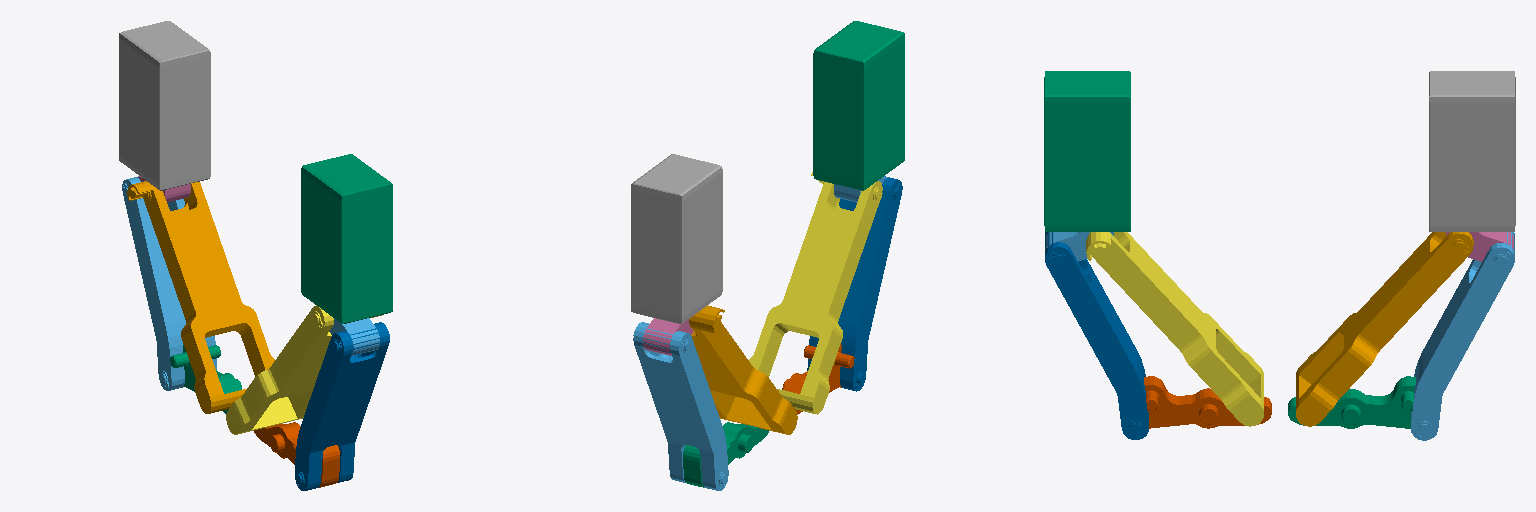
robot.urdf — robotiq_2f140_simple:
<?xml version="1.0"?>
<robot name="robotiq_2f140_simple">
  <joint name="finger_joint" type="revolute">
    <origin xyz="0. -0.030601 0.054905" rpy="0.8457962 0.0000001 -3.1415925"/>
    <parent link="robotiq_arg2f_base_link"/>
    <child link="left_outer_knuckle"/>
    <axis xyz="1. 0. 0."/>
    <limit lower="0." upper="0.7" effort="60000." velocity="2."/>
  </joint>
  <joint name="left_inner_finger_joint" type="revolute">
    <origin xyz="0. 0.0817554 -0.0282203" rpy="-0.725 0. 0. "/>
    <parent link="left_outer_finger"/>
    <child link="left_inner_finger"/>
    <axis xyz="1. 0. 0."/>
    <limit lower="-0.8757" upper="0.8757" effort="60000." velocity="2."/>
  </joint>
  <joint name="left_inner_finger_pad_joint" type="fixed">
    <origin xyz="0. 0.0457554 -0.0272203" rpy="0. -1.5707963 0. "/>
    <parent link="left_inner_finger"/>
    <child link="left_inner_finger_pad"/>
  </joint>
  <joint name="left_inner_knuckle_joint" type="continuous">
    <origin xyz="0. 0.0085067 -0.0170686" rpy="0.7249998 0. 0. "/>
    <parent link="left_inner_finger"/>
    <child link="left_inner_knuckle"/>

    <limit lower="-1.8757" upper="1.8757" effort="60000." velocity="2."/>
    <axis xyz="1. 0. 0."/>
  </joint>
  <joint name="left_outer_finger_joint" type="fixed">
    <origin xyz="0. 0.01822 -0.0260018" rpy="3.1415927 0.0000001 -3.1415927"/>
    <parent link="left_outer_knuckle"/>
    <child link="left_outer_finger"/>
  </joint>
  <joint name="right_inner_finger_joint" type="revolute">
    <origin xyz="0. 0.0817554 -0.0282203" rpy="-0.725 0. 0. "/>
    <parent link="right_outer_finger"/>
    <child link="right_inner_finger"/>
    
    <axis xyz="1. 0. 0."/>
    <limit lower="-0.8757" upper="0.8757" effort="60000." velocity="2."/>
  </joint>
  <joint name="right_inner_finger_pad_joint" type="fixed">
    <origin xyz="0. 0.0457554 -0.0272203" rpy="0. -1.5707964 0. "/>
    <parent link="right_inner_finger"/>
    <child link="right_inner_finger_pad"/>
  </joint>
  <joint name="right_inner_knuckle_joint" type="continuous">
    <origin xyz="-0. 0.0035254 -0.0175857" rpy="0.725 -0.0000002 0. "/>
    <parent link="right_inner_finger"/>
    <child link="right_inner_knuckle"/>
    <axis xyz="1. 0. 0."/>

    <limit lower="-1.8757" upper="1.8757" effort="60000." velocity="2."/>
  </joint>
  <joint name="right_outer_finger_joint" type="fixed">
    <origin xyz="0. 0.01822 0.0260018" rpy="0. 0. 0."/>
    <parent link="right_outer_knuckle"/>
    <child link="right_outer_finger"/>
  </joint>
  <joint name="right_outer_knuckle_joint" type="revolute">
    <origin xyz="0. 0.030601 0.054905" rpy="2.2957964 0. -3.1415925"/>
    <parent link="robotiq_arg2f_base_link"/>
    <child link="right_outer_knuckle"/>
    <axis xyz="1. 0. 0."/>
    <limit lower="-0.725" upper="0.725" effort="10000000." velocity="2."/>
  </joint>
  <joint name="root_joint" type="fixed">
    <origin xyz="0. 0. -0.125" rpy="0. 0. 0."/>
    <parent link="Root"/>
    <child link="robotiq_arg2f_base_link"/>
  </joint>
  <link name="Root"/>
  <link name="left_inner_finger">
    <inertial>
      <origin xyz="0.0003 0.0160078 -0.0136946" rpy="0. 0. 0."/>
      <mass value="0.0104003"/>
      <inertia ixx="0.0000027" ixy="0." ixz="0." iyy="0.0000008" iyz="0." izz="0.0000023"/>
    </inertial>
    <visual>
      <origin xyz="0. 0. 0." rpy="-0. 0. 0."/>
      <geometry>
        <mesh filename="meshes/right_inner_finger_visuals_mesh_0.obj" scale="1. 1. 1."/>
      </geometry>
    </visual>
    <collision>
      <origin xyz="0. 0. 0." rpy="-0. 0. 0."/>
      <geometry>
        <mesh filename="meshes/right_inner_finger_collisions_mesh_0.obj" scale="1. 1. 1."/>
      </geometry>
    </collision>
  </link>
  <link name="left_inner_finger_pad">
    <visual>
      <origin xyz="0. -0. 0." rpy="0. 0.0 0. "/>
      <geometry>
        <mesh filename="meshes/fingerpad.obj" scale="1. 1. 1."/>
        <!-- <box size="0.027 0.065 0.0075"/> -->
      </geometry>
    </visual>
    <collision>
      <origin xyz="0. -0. 0." rpy="0. 0.0 0. "/>
      <geometry>
        <mesh filename="meshes/fingerpad.obj" scale="1. 1. 1."/>
      </geometry>
    </collision>
  </link>
  <link name="left_inner_knuckle">
    <inertial>
      <origin xyz="0.000123 0.0507851 0.0010397" rpy="0. 0. 0."/>
      <mass value="0.0271177"/>
      <inertia ixx="0.0000262" ixy="0." ixz="0." iyy="0.0000028" iyz="0." izz="0.0000284"/>
    </inertial>
    <visual>
      <origin xyz="0. -0.1020182 0.0029162" rpy="0.0000001 0. 0. "/>
      <geometry>
        <mesh filename="meshes/right_inner_knuckle_visuals_mesh_0.obj" scale="1. 1. 1."/>
      </geometry>
    </visual>
    <collision>
      <origin xyz="0. -0.1020182 0.0029162" rpy="0.0000001 0. 0. "/>
      <geometry>
        <mesh filename="meshes/right_inner_knuckle_collisions_mesh_0.obj" scale="1. 1. 1."/>
      </geometry>
    </collision>
  </link>
  <link name="left_outer_finger">
    <inertial>
      <origin xyz="0.0003012 0.0373908 -0.0208027" rpy="0. 0. 0."/>
      <mass value="0.0226142"/>
      <inertia ixx="0.0000153" ixy="0." ixz="0." iyy="0.0000062" iyz="0." izz="0.0000116"/>
    </inertial>
    <visual>
      <origin xyz="0. 0. 0." rpy="0. 0. 0."/>
      <geometry>
        <mesh filename="meshes/right_outer_finger_visuals_mesh_0.obj" scale="1. 1. 1."/>
      </geometry>
    </visual>
    <collision>
      <origin xyz="0. 0. 0." rpy="0. 0. 0."/>
      <geometry>
        <mesh filename="meshes/right_outer_finger_collisions_mesh_0.obj" scale="1. 1. 1."/>
      </geometry>
    </collision>
  </link>
  <link name="left_outer_knuckle">
    <inertial>
      <origin xyz="-0.0002 0.0199436 0.0292245" rpy="0. 0. 0."/>
      <mass value="0.008532"/>
      <inertia ixx="0.0000029" ixy="0." ixz="0." iyy="0.0000019" iyz="0." izz="0.0000012"/>
    </inertial>
    <visual>
      <origin xyz="0. 0. 0." rpy="3.1415927 0.0000001 -3.1415927"/>
      <geometry>
        <mesh filename="meshes/right_outer_knuckle_visuals_mesh_0.obj" scale="1. 1. 1."/>
      </geometry>
    </visual>
    <collision>
      <origin xyz="0. 0. 0." rpy="3.1415927 0.0000001 -3.1415927"/>
      <geometry>
        <mesh filename="meshes/right_outer_knuckle_collisions_mesh_0.obj" scale="1. 1. 1."/>
      </geometry>
    </collision>
  </link>
  <link name="right_inner_finger">
    <inertial>
      <origin xyz="0.0003 0.0160078 -0.0136946" rpy="0. 0. 0."/>
      <mass value="0.0104003"/>
      <inertia ixx="0.0000027" ixy="0." ixz="0." iyy="0.0000008" iyz="0." izz="0.0000023"/>
    </inertial>
    <visual>
      <origin xyz="0. 0. 0." rpy="0. 0. 0."/>
      <geometry>
        <mesh filename="meshes/right_inner_finger_visuals_mesh_0.obj" scale="1. 1. 1."/>
      </geometry>
    </visual>
    <collision>
      <origin xyz="0. 0. 0." rpy="0. 0. 0."/>
      <geometry>
        <mesh filename="meshes/right_inner_finger_collisions_mesh_0.obj" scale="1. 1. 1."/>
      </geometry>
    </collision>
  </link>
  <link name="right_inner_finger_pad">
    <visual>
      <origin xyz="0. -0. 0." rpy="0. 0.0 0. "/>
      <geometry>
        <mesh filename="meshes/fingerpad.obj" scale="1. 1. 1."/>
        <!-- <box size="0.027 0.065 0.0075"/> -->
      </geometry>
    </visual>
    <collision>
      <origin xyz="0. -0. 0." rpy="0. 0.0 0. "/>
      <geometry>
        <mesh filename="meshes/fingerpad.obj" scale="1. 1. 1."/>
      </geometry>
    </collision>
  </link>
  <link name="right_inner_knuckle">
    <inertial>
      <origin xyz="0.000123 0.0507851 0.0010397" rpy="0. 0. 0."/>
      <mass value="0.0271177"/>
      <inertia ixx="0.0000262" ixy="0." ixz="0." iyy="0.0000028" iyz="0." izz="0.0000284"/>
    </inertial>
    <visual>
      <origin xyz="0. -0.0979468 -0. " rpy="-0. 0. 0."/>
      <geometry>
        <mesh filename="meshes/right_inner_knuckle_visuals_mesh_0.obj" scale="1. 1. 1."/>
      </geometry>
    </visual>
    <collision>
      <origin xyz="0. -0.0979468 -0. " rpy="-0. 0. 0."/>
      <geometry>
        <mesh filename="meshes/right_inner_knuckle_collisions_mesh_0.obj" scale="1. 1. 1."/>
      </geometry>
    </collision>
  </link>
  <link name="right_outer_finger">
    <inertial>
      <origin xyz="0.0003012 0.0373908 -0.0208027" rpy="0. 0. 0."/>
      <mass value="0.0226142"/>
      <inertia ixx="0.0000153" ixy="0." ixz="0." iyy="0.0000062" iyz="0." izz="0.0000116"/>
    </inertial>
    <visual>
      <origin xyz="0. 0. 0." rpy="0. 0. 0."/>
      <geometry>
        <mesh filename="meshes/right_outer_finger_visuals_mesh_0.obj" scale="1. 1. 1."/>
      </geometry>
    </visual>
    <collision>
      <origin xyz="0. 0. 0." rpy="0. 0. 0."/>
      <geometry>
        <mesh filename="meshes/right_outer_finger_collisions_mesh_0.obj" scale="1. 1. 1."/>
      </geometry>
    </collision>
  </link>
  <link name="right_outer_knuckle">
    <inertial>
      <origin xyz="-0.0002 0.0199436 0.0292245" rpy="0. 0. 0."/>
      <mass value="0.008532"/>
      <inertia ixx="0.0000029" ixy="0." ixz="0." iyy="0.0000019" iyz="0." izz="0.0000012"/>
    </inertial>
    <visual>
      <origin xyz="0. 0. 0." rpy="0. 0. 0."/>
      <geometry>
        <mesh filename="meshes/right_outer_knuckle_visuals_mesh_0.obj" scale="1. 1. 1."/>
      </geometry>
    </visual>
    <collision>
      <origin xyz="0. 0. 0." rpy="0. 0. 0."/>
      <geometry>
        <mesh filename="meshes/right_outer_knuckle_collisions_mesh_0.obj" scale="1. 1. 1."/>
      </geometry>
    </collision>
  </link>
  <link name="robotiq_arg2f_base_link">
    <inertial>
      <origin xyz="0.0000001 -0.0000047 0.03145 " rpy="0. 0. 0."/>
      <mass value="0.22652"/>
      <inertia ixx="0.0002" ixy="0." ixz="0." iyy="0.0001783" iyz="0." izz="0.0001348"/>
    </inertial>
    <visual>
      <origin xyz="0. 0. 0." rpy="0. 0. 0."/>
      <geometry>
        <mesh filename="meshes/robotiq_arg2f_base_link_visuals_mesh_0.obj" scale="1. 1. 1."/>
      </geometry>
    </visual>
    <collision>
      <origin xyz="0. 0. 0." rpy="0. 0. 0."/>
      <geometry>
        <mesh filename="meshes/robotiq_arg2f_base_link_collisions_mesh_0.obj" scale="1. 1. 1."/>
      </geometry>
    </collision>
  </link>
</robot>

--- Render facts (derived) ---
3 views of the same robot in one strip: view 1: azimuth 30°, elevation 25°; view 2: azimuth 150°, elevation 25°; view 3: azimuth 270°, elevation 25° (orthographic).
Robot: robotiq_2f140_simple — 12 links, 11 joints (4 revolute, 2 continuous, 5 fixed); root link Root; default pose: every joint at zero.
Visible links, largest first — view 1: left_inner_finger_pad, right_inner_finger_pad, right_inner_knuckle, left_outer_finger, left_inner_knuckle, right_outer_finger, left_outer_knuckle, right_outer_knuckle, left_inner_finger; view 2: left_inner_finger_pad, right_inner_finger_pad, left_inner_knuckle, right_outer_finger, right_inner_knuckle, left_outer_finger, right_outer_knuckle, left_outer_knuckle, right_inner_finger; view 3: left_inner_finger_pad, right_inner_finger_pad, left_inner_knuckle, right_inner_knuckle, right_outer_finger, left_outer_finger, right_outer_knuckle, left_outer_knuckle, right_inner_finger, left_inner_finger.
Link boxes in pixels (x1=…): left_inner_finger_pad: x1=301, y1=154, x2=392, y2=323; right_inner_finger_pad: x1=119, y1=21, x2=210, y2=190; right_inner_knuckle: x1=127, y1=181, x2=274, y2=413; left_outer_finger: x1=295, y1=322, x2=389, y2=490; left_inner_knuckle: x1=226, y1=305, x2=381, y2=434; right_outer_finger: x1=122, y1=176, x2=216, y2=390; left_outer_knuckle: x1=254, y1=422, x2=339, y2=487; right_outer_knuckle: x1=170, y1=344, x2=241, y2=413; left_inner_finger: x1=329, y1=318, x2=379, y2=355; left_inner_finger_pad: x1=813, y1=21, x2=904, y2=190; right_inner_finger_pad: x1=631, y1=154, x2=722, y2=323; left_inner_knuckle: x1=749, y1=172, x2=882, y2=414; right_outer_finger: x1=633, y1=322, x2=728, y2=490; right_inner_knuckle: x1=689, y1=305, x2=797, y2=434; left_outer_finger: x1=807, y1=176, x2=902, y2=391; right_outer_knuckle: x1=683, y1=422, x2=768, y2=487; left_outer_knuckle: x1=782, y1=344, x2=854, y2=414; right_inner_finger: x1=643, y1=318, x2=693, y2=355; left_inner_finger_pad: x1=1044, y1=71, x2=1130, y2=231; right_inner_finger_pad: x1=1429, y1=71, x2=1515, y2=231; left_inner_knuckle: x1=1086, y1=232, x2=1263, y2=426; right_inner_knuckle: x1=1296, y1=232, x2=1473, y2=426; right_outer_finger: x1=1411, y1=232, x2=1514, y2=440; left_outer_finger: x1=1045, y1=232, x2=1148, y2=439; right_outer_knuckle: x1=1288, y1=376, x2=1415, y2=428; left_outer_knuckle: x1=1144, y1=376, x2=1271, y2=428; right_inner_finger: x1=1446, y1=232, x2=1513, y2=261; left_inner_finger: x1=1046, y1=232, x2=1113, y2=261.
Size in the robot's own frame: 0.0391 by 0.2027 by 0.1641 metres.
10 mesh visuals loaded from 6 distinct referenced files (5 OBJ); not drawn: 1 (reference not matched to a file when rendering).